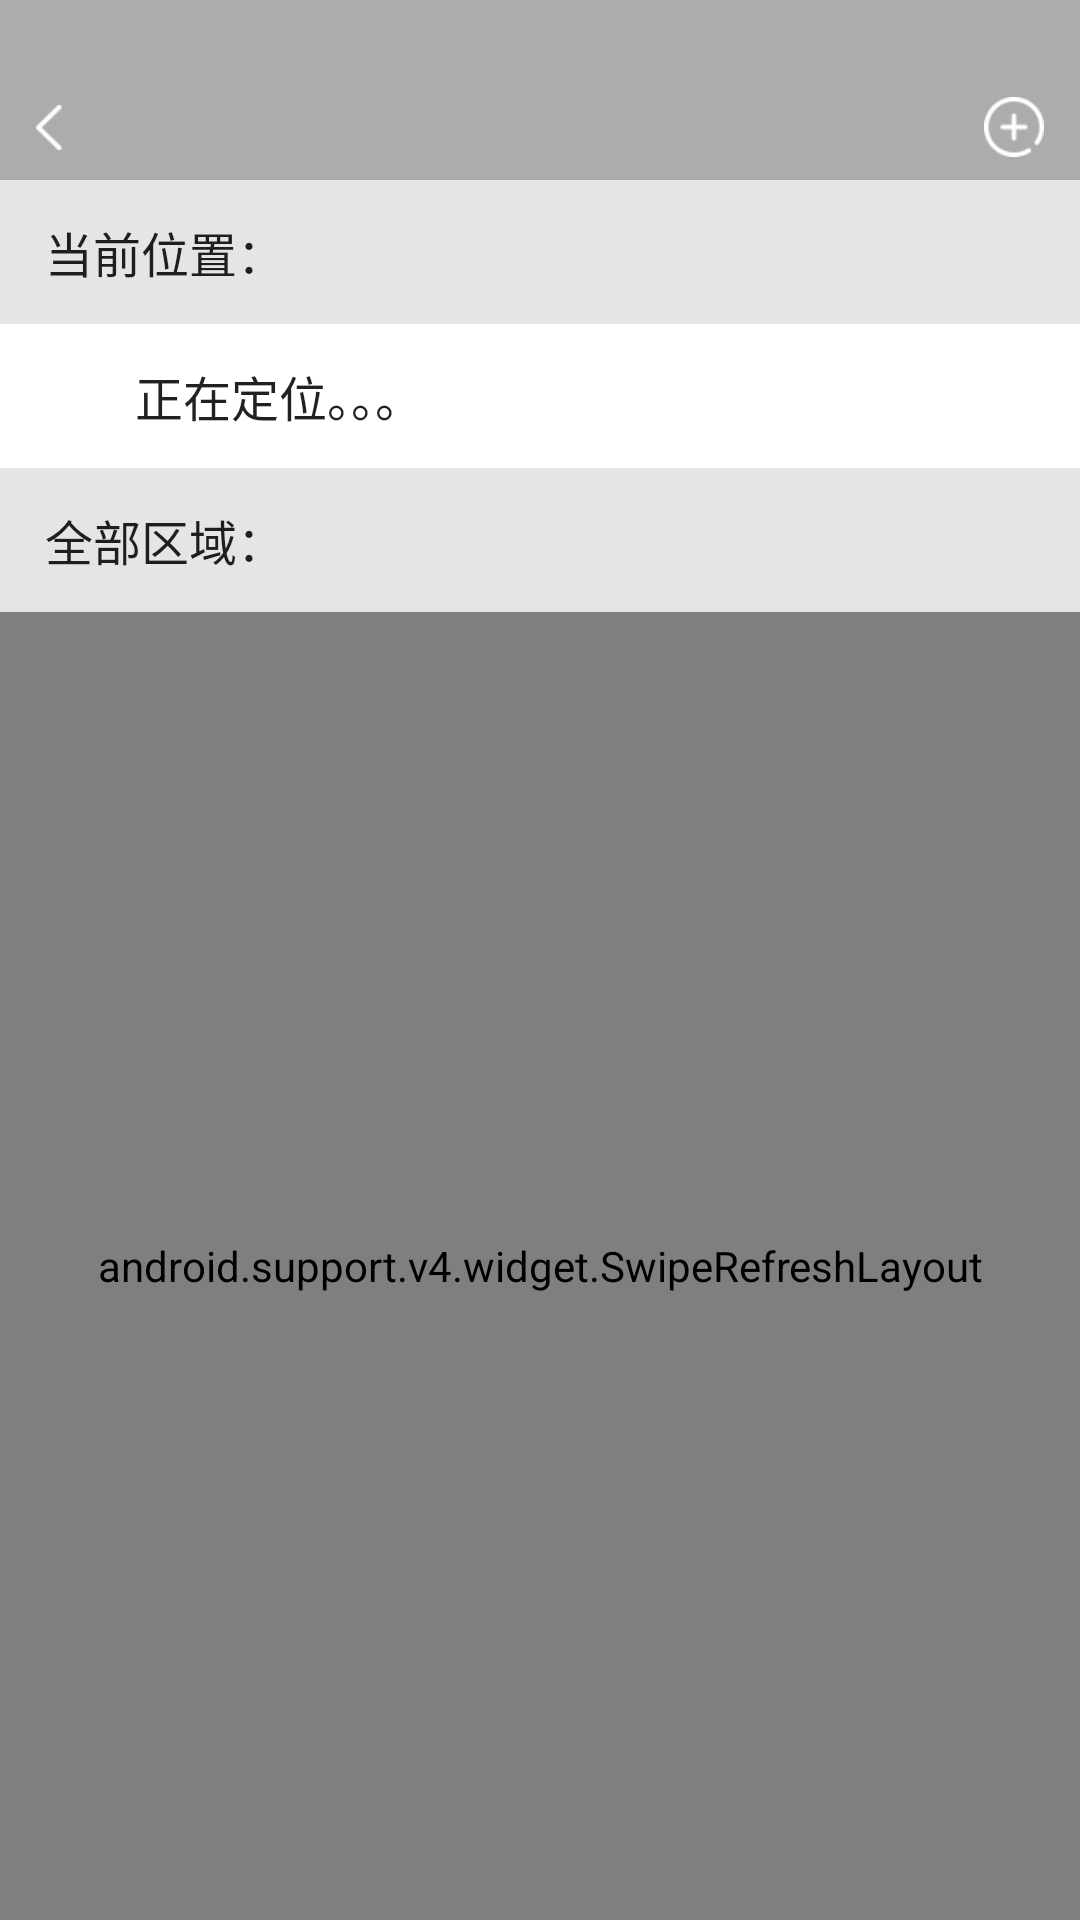

Locate icon controls on the screen. Image size 1080 × 1920, boxes as detection(x1, y1, x2, y2).
weather general back: detection(36, 105, 62, 150)
weather more: detection(984, 97, 1044, 157)
